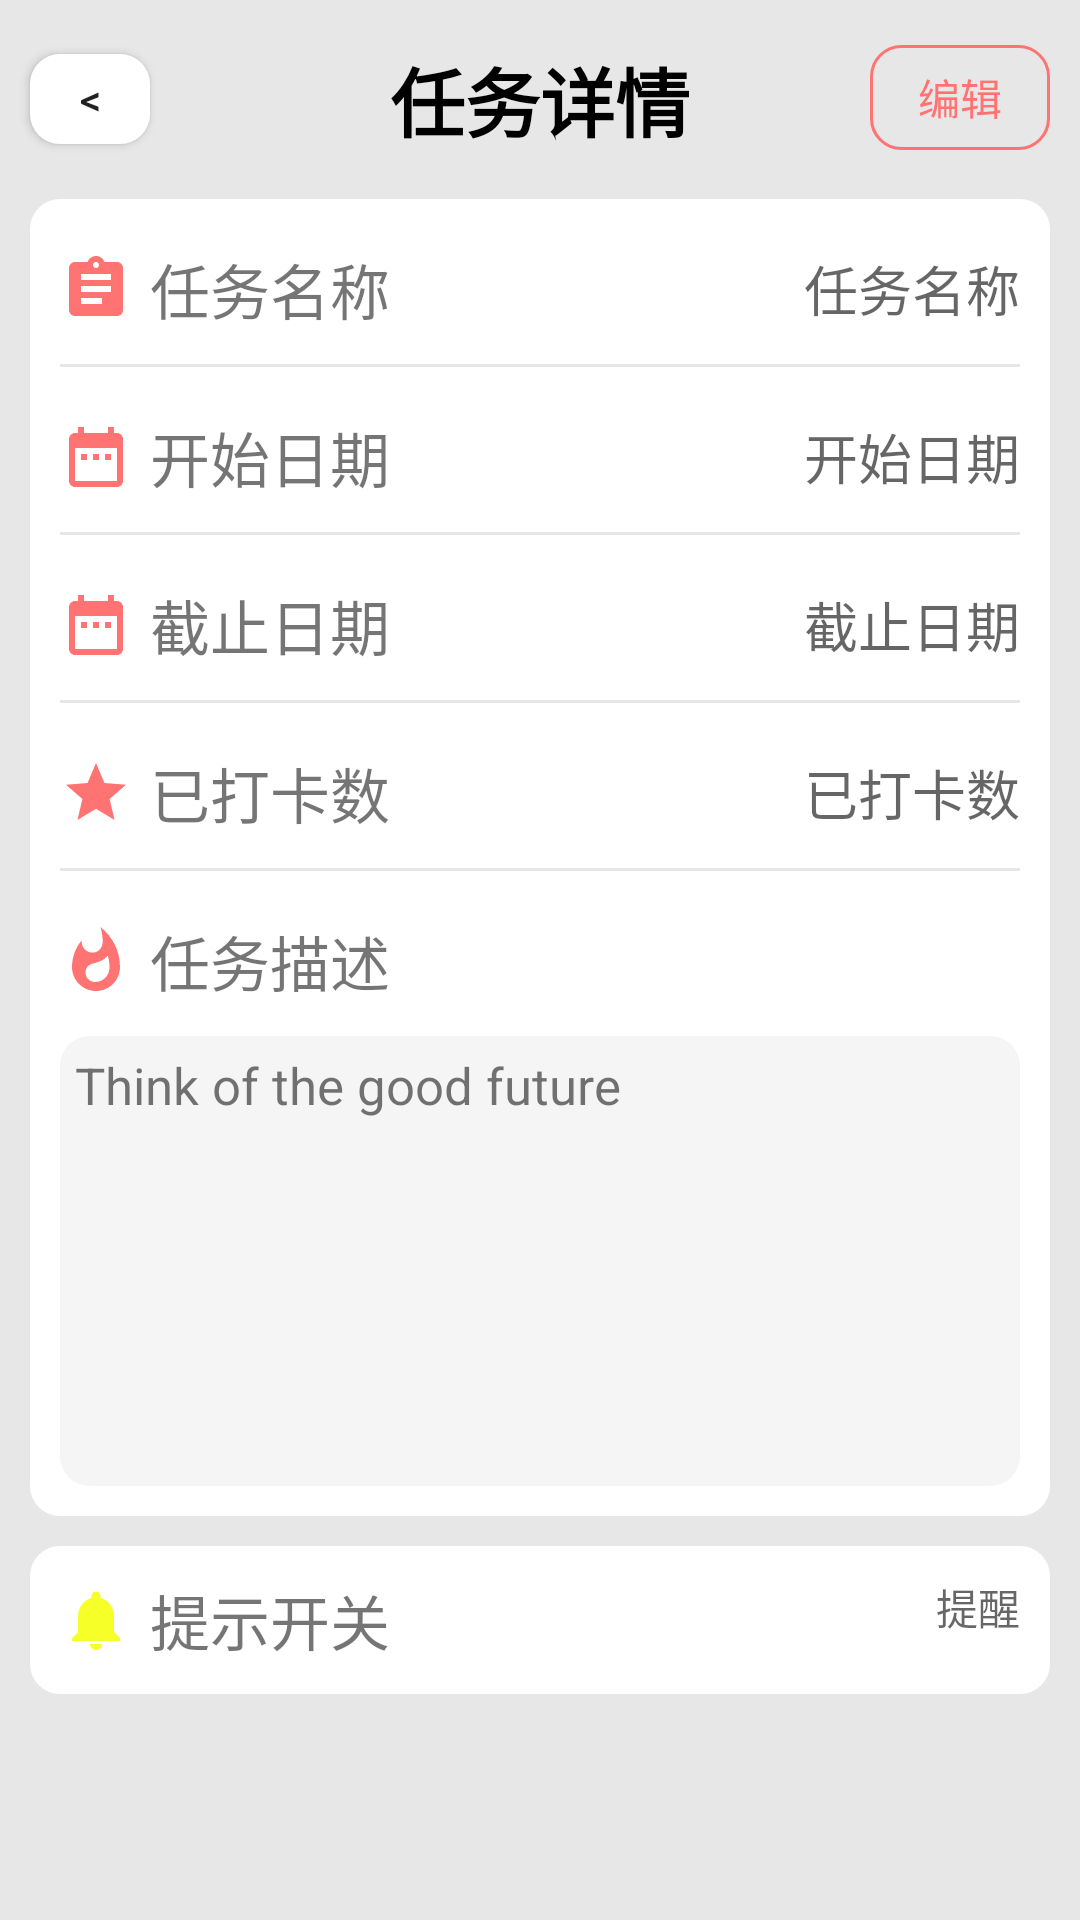

Where icons sit on this 1080 × 1920 app screen, as [x1,y1,x2,y2]:
assignment: [69,256,123,316]
date range: [69,427,123,487], [69,595,123,655]
notifications: [72,1591,120,1650]
star: [66,763,126,820]
whatshot: [72,927,120,991]
